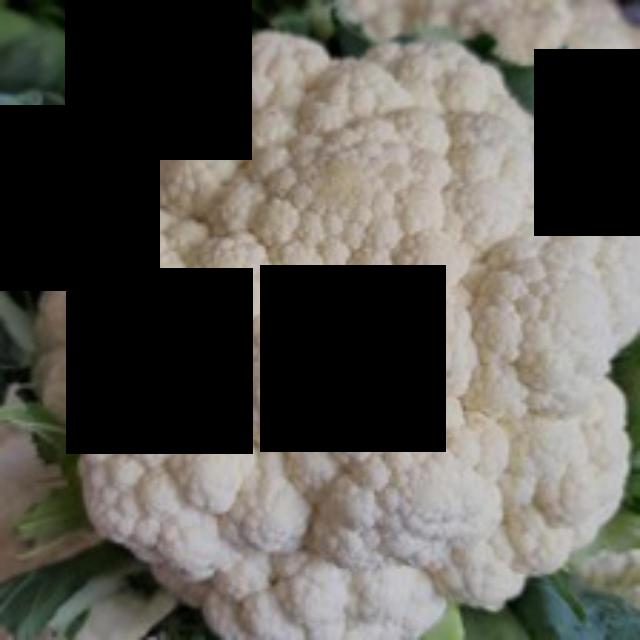cauliflower: (37, 20, 637, 637)
